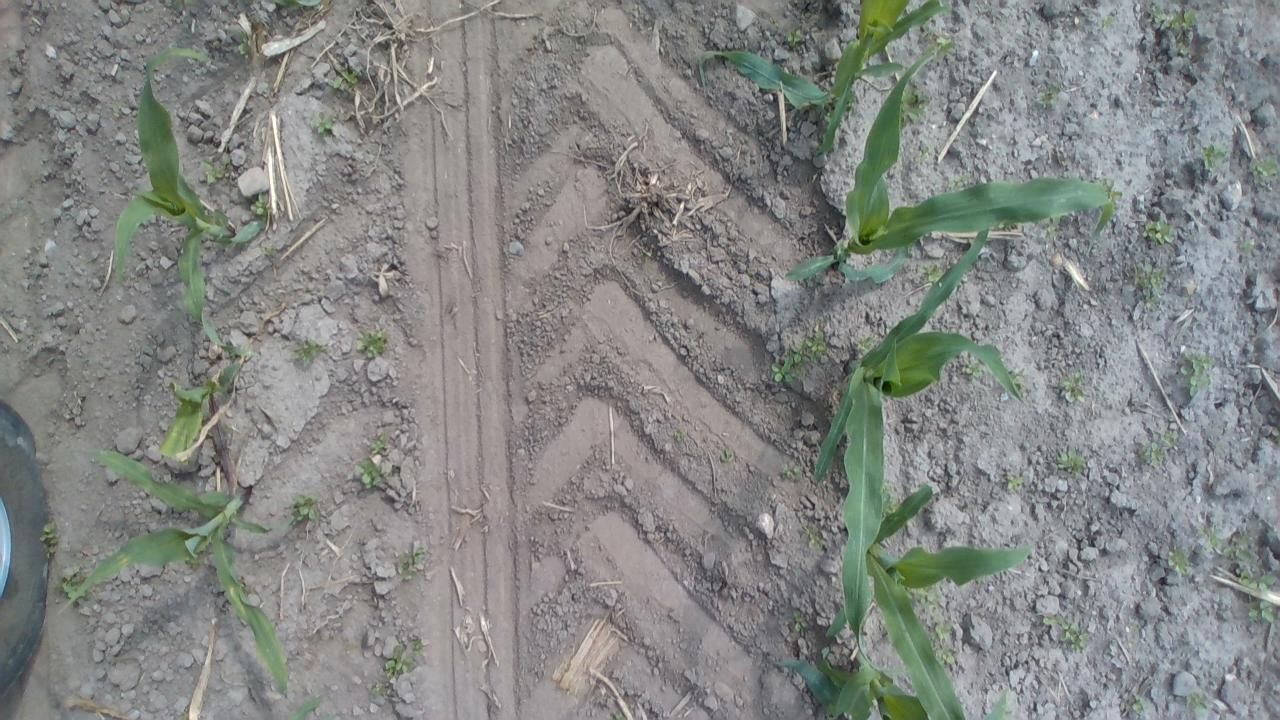Maize: (808, 216, 1034, 644), (776, 50, 1124, 298), (60, 440, 306, 704), (834, 448, 1052, 719), (102, 48, 276, 361), (692, 3, 952, 158), (769, 636, 1020, 720), (148, 353, 248, 464)
Weeds: (768, 331, 828, 386), (382, 634, 428, 684), (1042, 612, 1094, 653), (1131, 260, 1168, 312), (1178, 352, 1215, 398), (931, 616, 958, 675), (392, 544, 432, 582), (1141, 430, 1178, 470), (1148, 7, 1200, 34), (899, 84, 931, 127), (352, 458, 389, 494), (1137, 435, 1172, 473), (1136, 216, 1180, 246), (1244, 152, 1278, 190), (200, 152, 235, 188), (58, 564, 90, 602), (1054, 446, 1088, 481), (331, 63, 368, 95), (354, 326, 392, 357), (289, 493, 323, 526), (1060, 368, 1091, 404), (292, 337, 326, 369), (1165, 546, 1196, 580), (1239, 565, 1277, 592), (1197, 141, 1229, 173), (310, 111, 343, 142), (36, 522, 64, 558), (1225, 532, 1256, 564), (366, 428, 396, 459), (1244, 598, 1276, 626), (1199, 526, 1226, 558), (1156, 426, 1182, 458), (248, 191, 274, 223), (909, 584, 943, 608), (928, 31, 956, 60), (788, 608, 812, 641), (1186, 690, 1213, 718), (880, 482, 900, 519), (778, 461, 807, 485), (1037, 86, 1063, 112), (918, 262, 945, 286), (233, 28, 252, 60), (782, 26, 808, 49), (802, 527, 824, 554), (916, 139, 936, 168), (960, 356, 984, 380), (1002, 472, 1028, 494), (1126, 691, 1148, 716), (1098, 12, 1122, 33), (854, 334, 876, 356), (714, 447, 736, 469), (670, 426, 692, 448), (1040, 218, 1064, 238), (1239, 234, 1259, 258), (814, 102, 834, 124), (368, 680, 392, 697), (258, 243, 278, 260)
